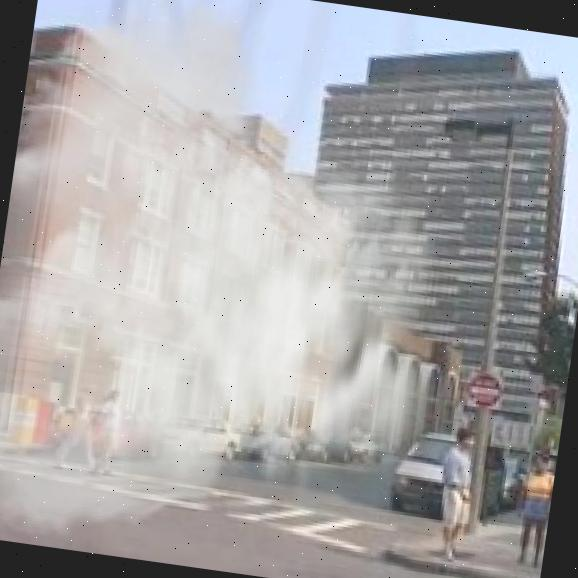smoke: (39, 55, 342, 405)
